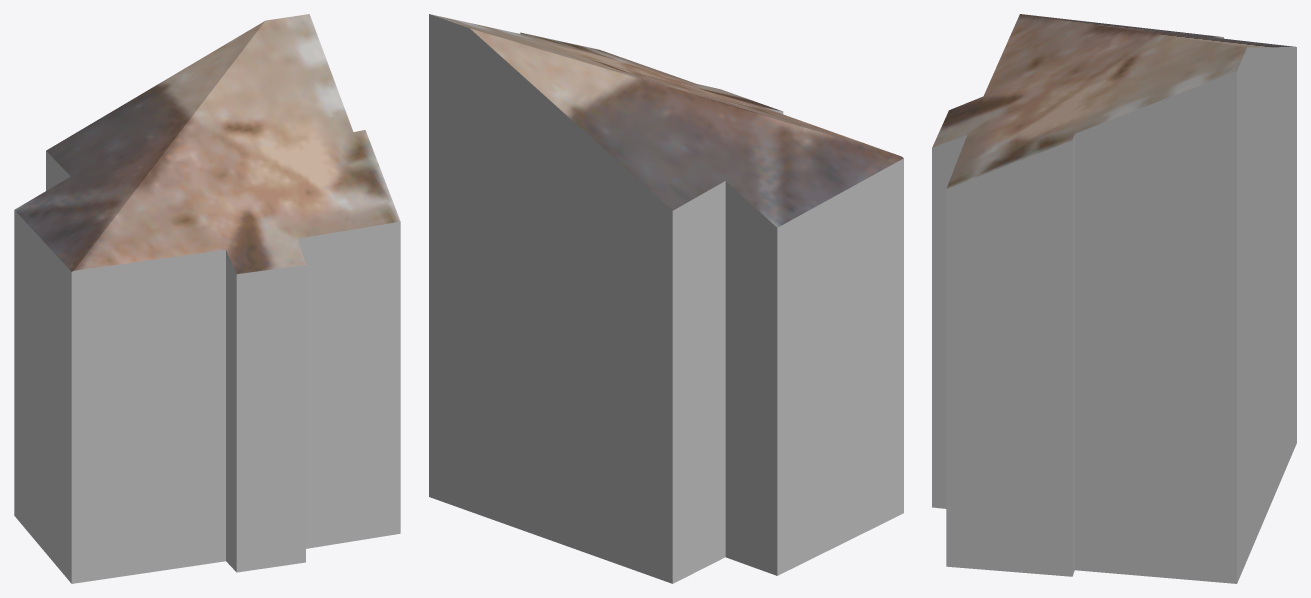
File: DEBW_0010007Txay.gltf
3 renders of one model, left to right at view 1: azimuth 30°, elevation 25°; view 2: azimuth 150°, elevation 25°; view 3: azimuth 270°, elevation 25°, orthographic. The views are drawn at different scales.
Visible parts, largest first — view 1: Z_UP; view 2: Z_UP; view 3: Z_UP.
Boxes of the visible parts, bbox=[...] form: Z_UP: bbox=[14, 14, 400, 583]; Z_UP: bbox=[429, 14, 903, 583]; Z_UP: bbox=[932, 14, 1296, 583].
Size of the model in its own units: 16.18 by 20.04 by 12.92.
Materials: 2 (1 with a texture image).
